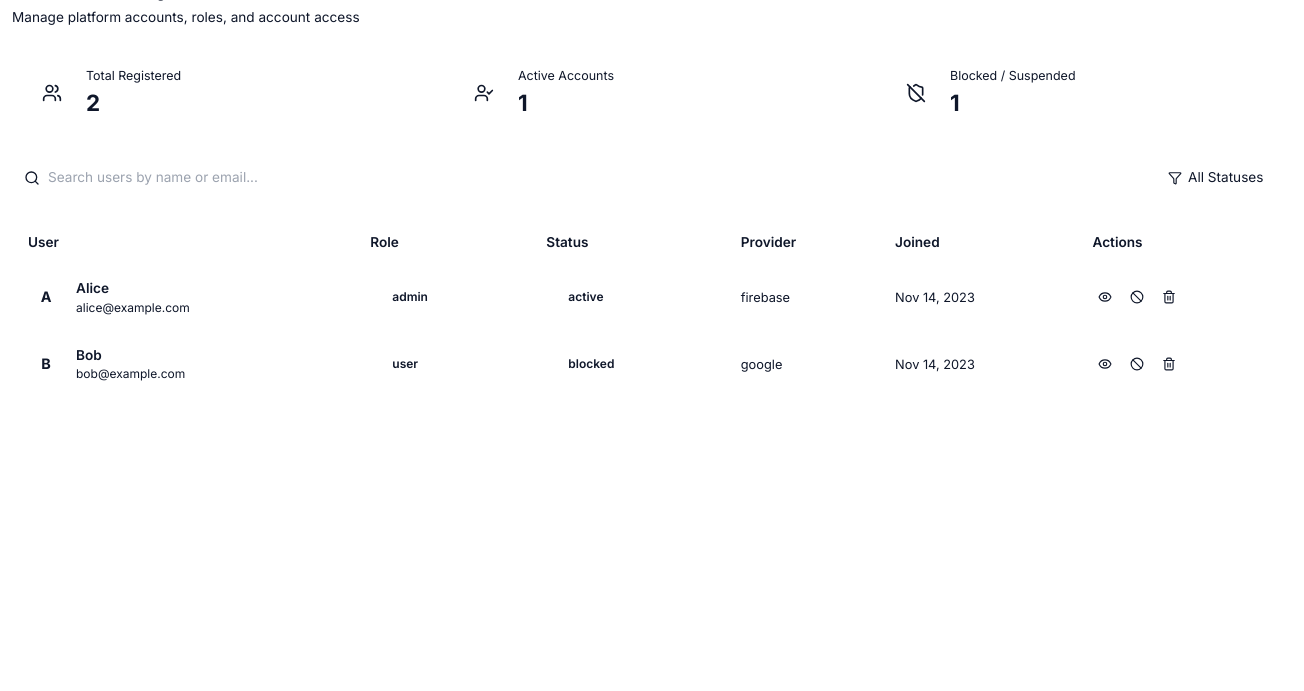
Test: AdminUsersPage › opens the details modal with role change controls
Click the button named "View alice@example.com" at {"x": 1106, "y": 297}, box [1092, 284, 1118, 310]
(page scrolled)
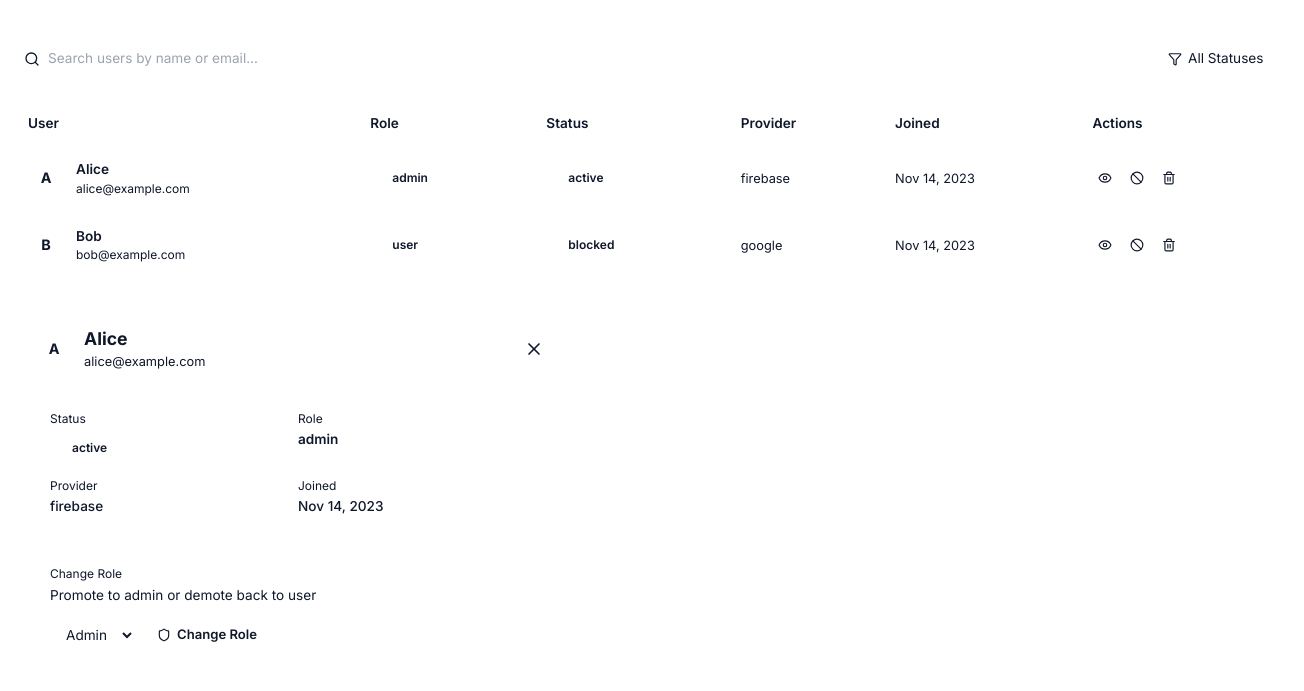
Expected: the dropdown named "Select role" shows "Admin", [50, 618, 135, 652]
Expected: the button "Change Role" is shown, [143, 617, 271, 653]
